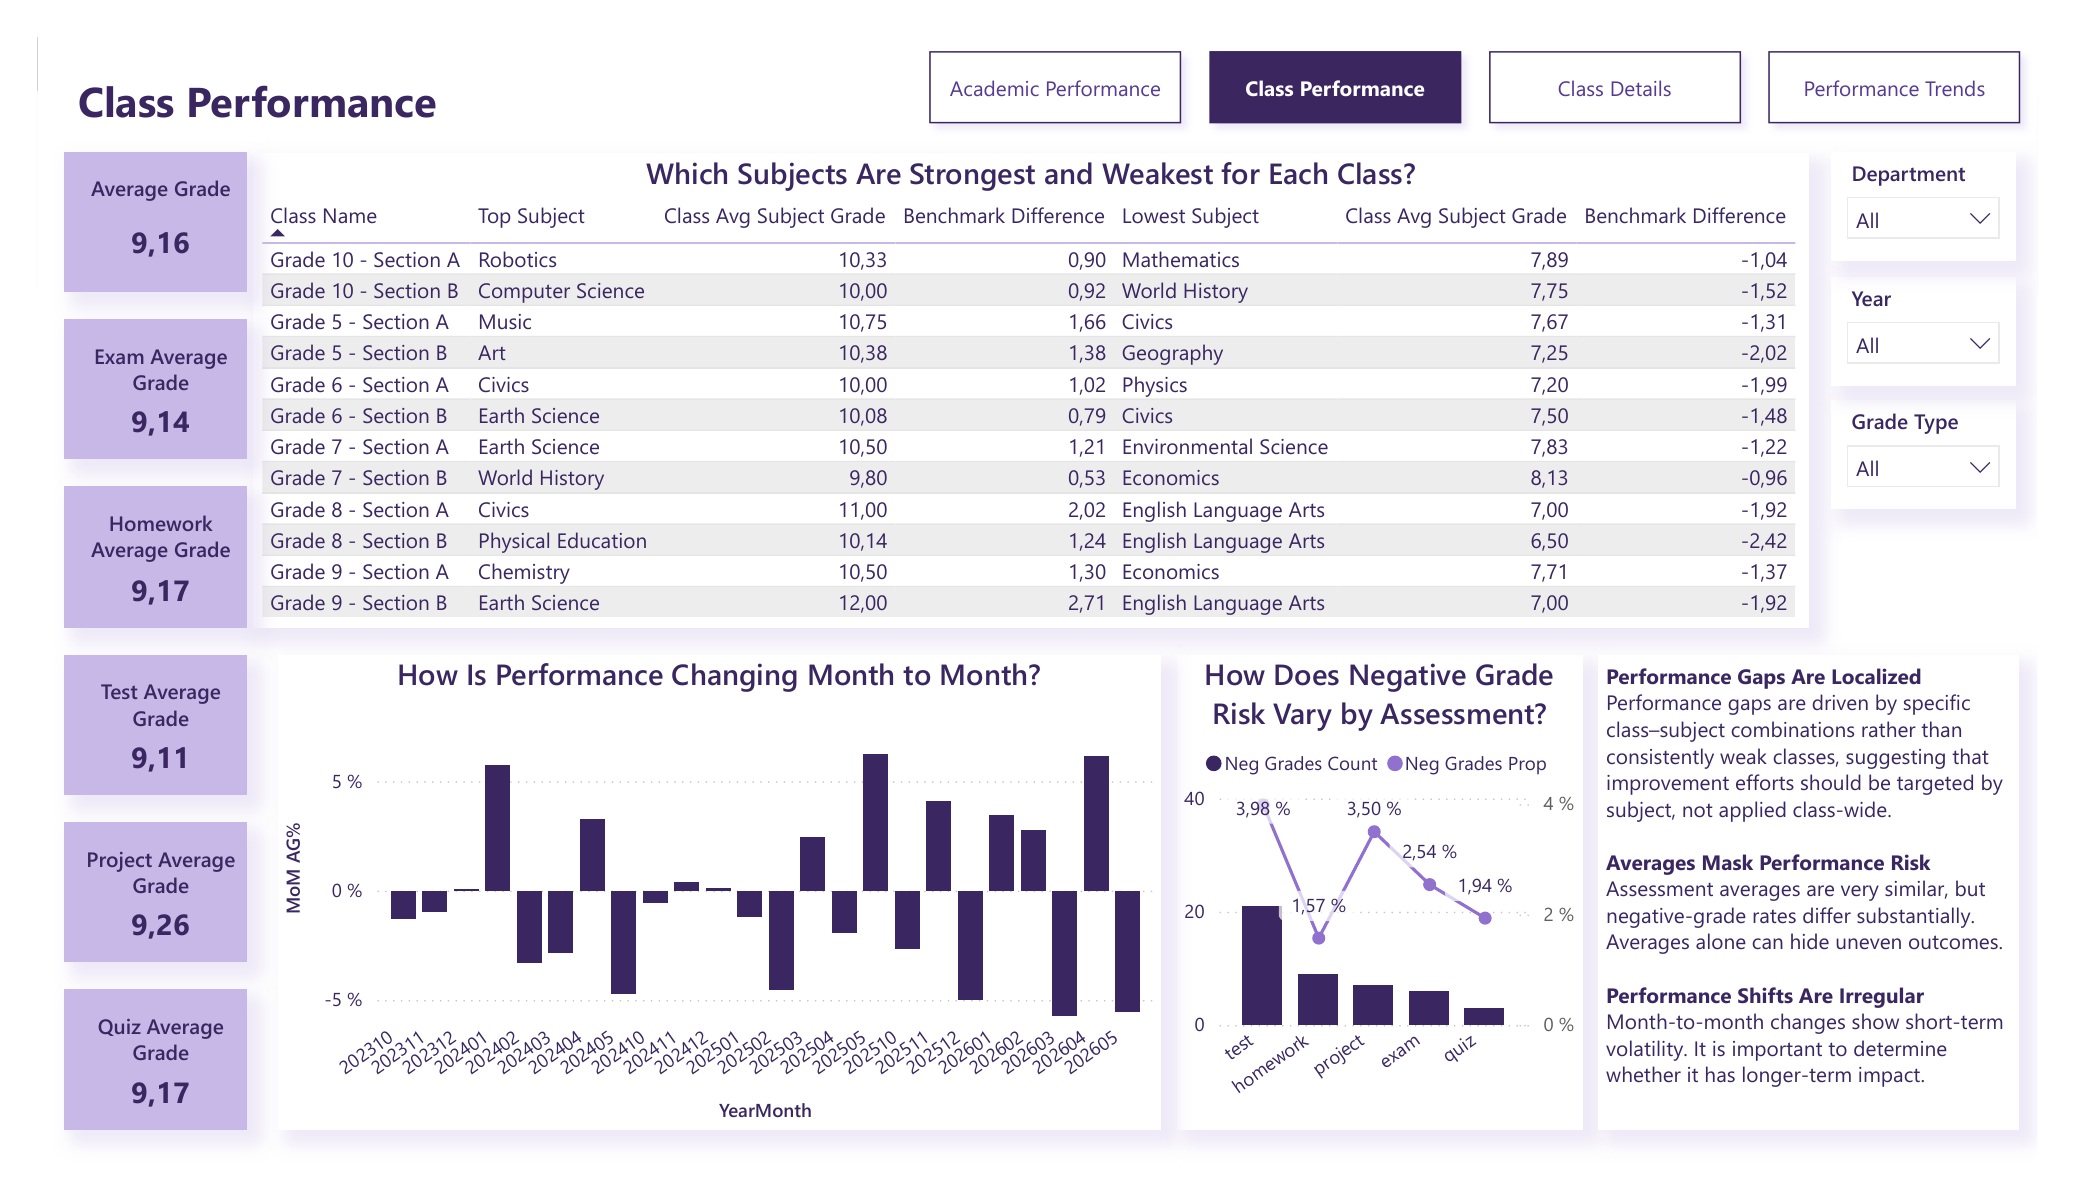

What the dashboard file says about the page in this screenshot:
{"tool":"powerbi","page":{"name":"Class Performance","canvas":[1280,720],"ordinal":1},"visuals":[{"type":"tableEx","title":"Which Subjects Are Strongest and Weakest for Each Class?","fields":{"Values":["classes.class_name","_Measures.Strongest Subject","_Measures.Strongest Subject Class Avg","_Measures.Top vs Subject Avg","_Measures.Lowest Subject","_Measures.Lowest Subject Class Avg","_Measures.Lowest vs Subject Avg"]},"box":[137.9,74.2,995.8,303.3],"z":0},{"type":"lineClusteredColumnComboChart","title":"How Does Negative Grade Risk Vary by Assessment?","fields":{"Category":["fact_table_grades.grade_type"],"Y":["_Measures.Neg Grades Count"],"Y2":["_Measures.Neg Grades Prop"]},"box":[728.6,395.1,260.5,304.1],"z":1000},{"type":"columnChart","title":"How Is Performance Changing Month to Month?","fields":{"Y":["_Measures.MoM_AG%"],"Category":["dim_Date.YearMonth"]},"box":[153.5,395.1,565.6,304.1],"z":2000},{"type":"textbox","box":[21.2,17,265.1,48.8],"z":3000},{"type":"slicer","fields":{"Values":["fact_table_grades.grade_type"]},"box":[1148.4,232.1,117.5,70.1],"z":4000},{"type":"slicer","fields":{"Values":["periods.academic_year"]},"box":[1148.4,152.5,117.5,70.1],"z":5000},{"type":"slicer","fields":{"Values":["subjects.department_hint"]},"box":[1148.4,73,117.5,70.1],"z":6000},{"type":"cardVisual","title":"Exam Average Grade","fields":{"Data":["_Measures.Exam Average Grade Measure"]},"box":[16.9,180.3,117.3,89.7],"z":7000},{"type":"cardVisual","title":"Homework Average Grade","fields":{"Data":["_Measures.Homework Average Grade Measure"]},"box":[16.9,287.2,117.3,90.6],"z":8000},{"type":"cardVisual","title":"Test Average Grade","fields":{"Data":["_Measures.Test Average Grade Measure"]},"box":[16.9,395,117.3,90],"z":9000},{"type":"cardVisual","title":"Project Average Grade","fields":{"Data":["_Measures.Project Average Grade"]},"box":[16.9,502,117.3,90],"z":10000},{"type":"cardVisual","title":"Quiz Average Grade","fields":{"Data":["_Measures.Quiz Average Grade"]},"box":[16.9,608.9,117.3,90],"z":11000},{"type":"cardVisual","title":"Average Grade","fields":{"Data":["_Measures.Average Grade"]},"box":[16.9,73.3,117.3,90],"z":12000},{"type":"textbox","box":[998.7,395.1,269.1,304.1],"z":13000},{"type":"pageNavigator","box":[562.1,0,717.9,63.6],"z":14000}]}

Visuals, with their boxes on the page's 1280x720 design canvas (x1, y1, x2, y2). These are canvas units, not pixel positions in the 2075x1200 screenshot, which may show the page scaled, cropped or inside an application window:
"Which Subjects Are Strongest and Weakest for Each Class?" tableEx: select_region(138, 74, 1134, 378)
"How Does Negative Grade Risk Vary by Assessment?" lineClusteredColumnComboChart: select_region(729, 395, 989, 699)
"How Is Performance Changing Month to Month?" columnChart: select_region(154, 395, 719, 699)
textbox: select_region(21, 17, 286, 66)
slicer - fact_table_grades.grade_type: select_region(1148, 232, 1266, 302)
slicer - periods.academic_year: select_region(1148, 152, 1266, 223)
slicer - subjects.department_hint: select_region(1148, 73, 1266, 143)
"Exam Average Grade" cardVisual: select_region(17, 180, 134, 270)
"Homework Average Grade" cardVisual: select_region(17, 287, 134, 378)
"Test Average Grade" cardVisual: select_region(17, 395, 134, 485)
"Project Average Grade" cardVisual: select_region(17, 502, 134, 592)
"Quiz Average Grade" cardVisual: select_region(17, 609, 134, 699)
"Average Grade" cardVisual: select_region(17, 73, 134, 163)
textbox: select_region(999, 395, 1268, 699)
pageNavigator: select_region(562, 0, 1280, 64)
